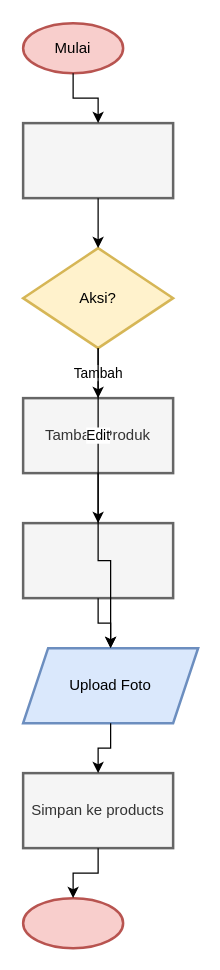
The diagram is 220 pixels wide and 970 high, and some of its shapes have lost their labels. Each missing label, with the box of its shape:
Edit Produk: (21, 521, 174, 599)
Halaman Kelola Produk: (21, 121, 174, 199)
Selesai: (21, 896, 124, 949)
